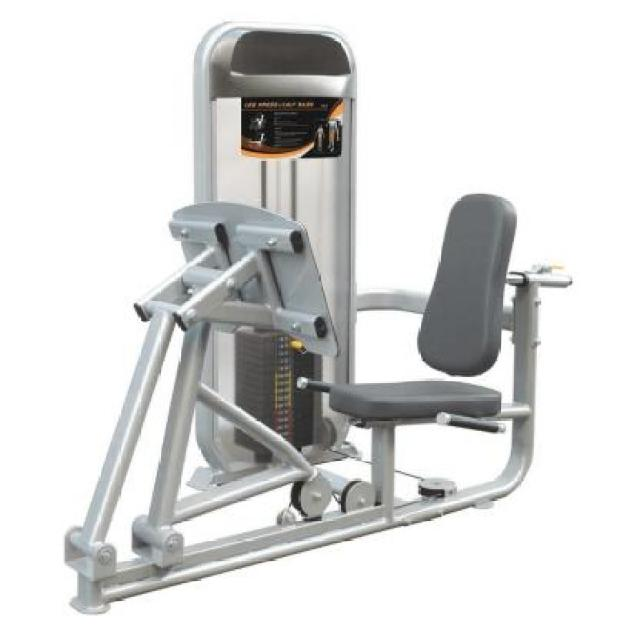leg press: (52, 12, 598, 623)
